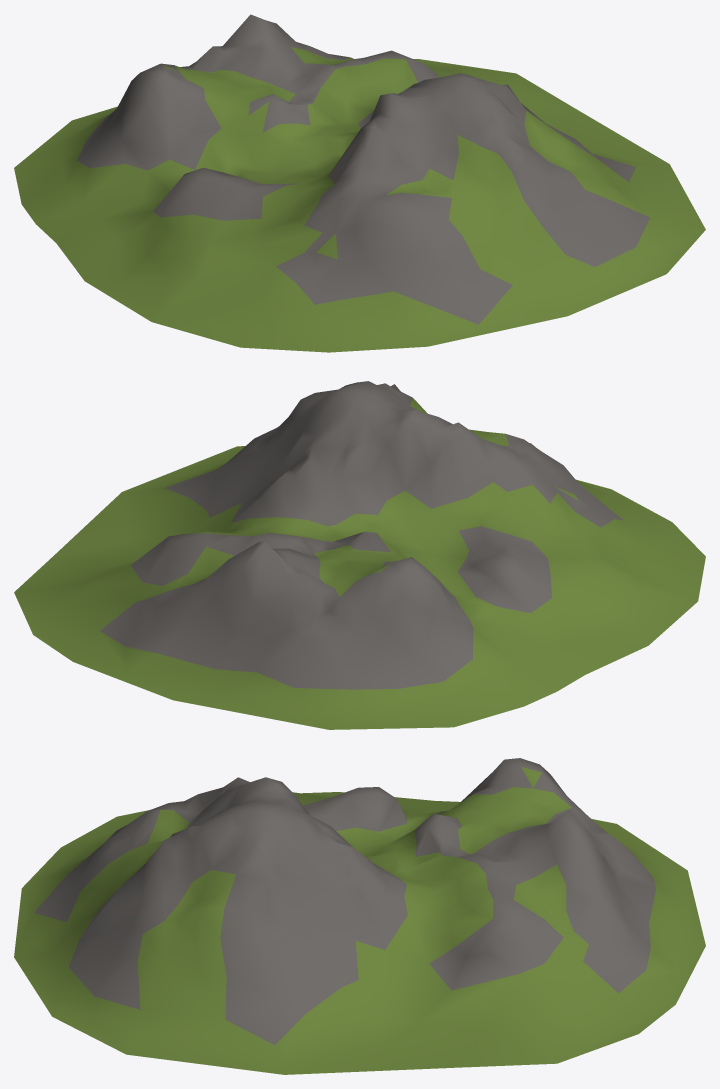
The model's file is rpgpp_ag_mountain_05.fbx.
3 renders of one model, top to bottom at view 1: azimuth 30°, elevation 25°; view 2: azimuth 150°, elevation 25°; view 3: azimuth 270°, elevation 25°, orthographic. The views are drawn at different scales.
Parts seen in each view (by area): view 1: rpgpp_ag_mountain_05; view 2: rpgpp_ag_mountain_05; view 3: rpgpp_ag_mountain_05.
Boxes of the visible parts, x1,y1,x2,y2 form: rpgpp_ag_mountain_05: [14, 14, 705, 352]; rpgpp_ag_mountain_05: [14, 381, 705, 729]; rpgpp_ag_mountain_05: [14, 758, 705, 1074].
Size of the model in its own units: 196 by 50.16 by 202.
